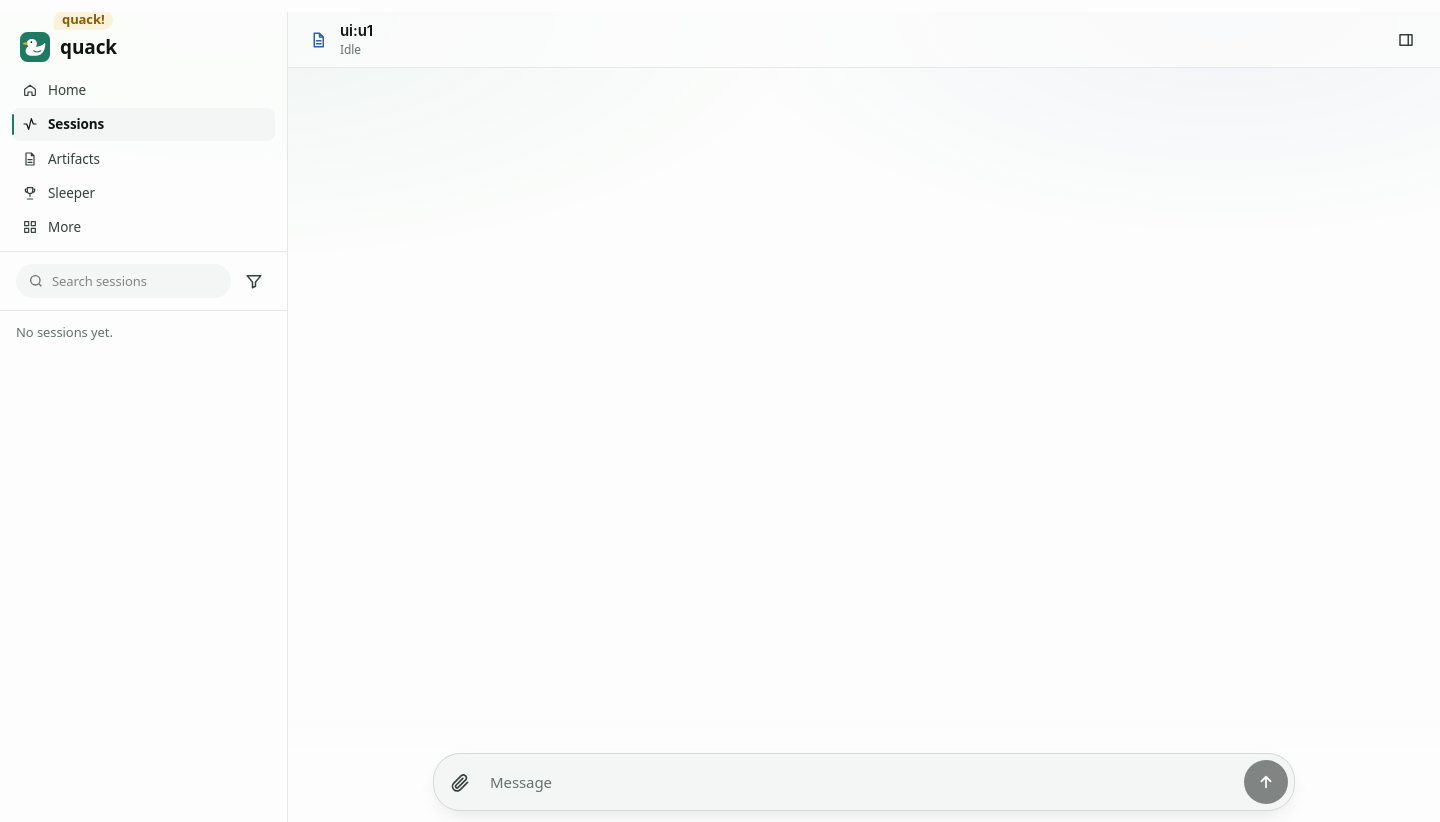
a send while a run works is a server-side follow-up shown as a chip; Send now steers it and the cross withdraws it
Type "first" into the text box labelled "Message" at (863, 782), box [486, 762, 1240, 802]
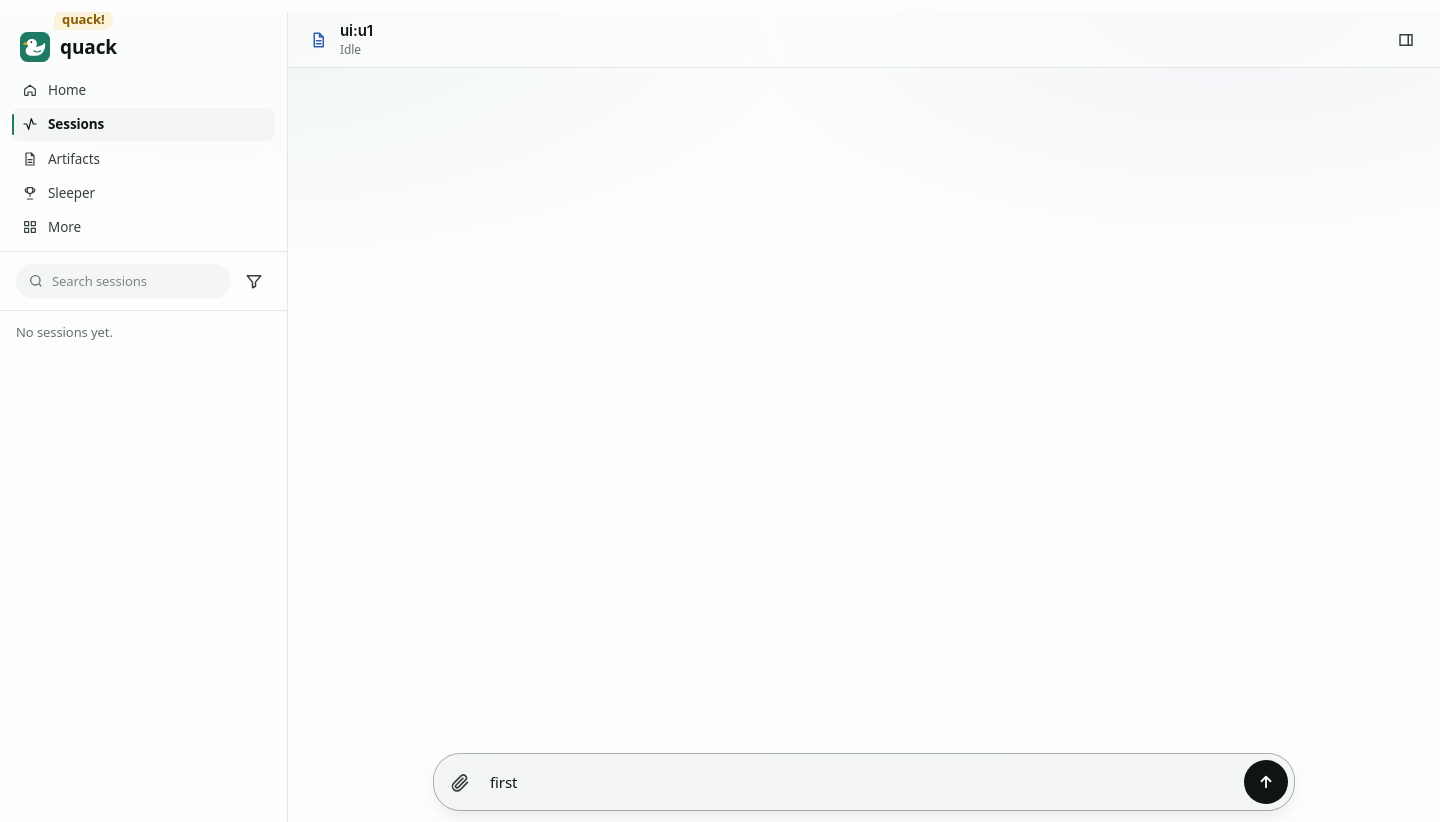
Click the button named "Send" at (1266, 782), box [1244, 760, 1288, 804]
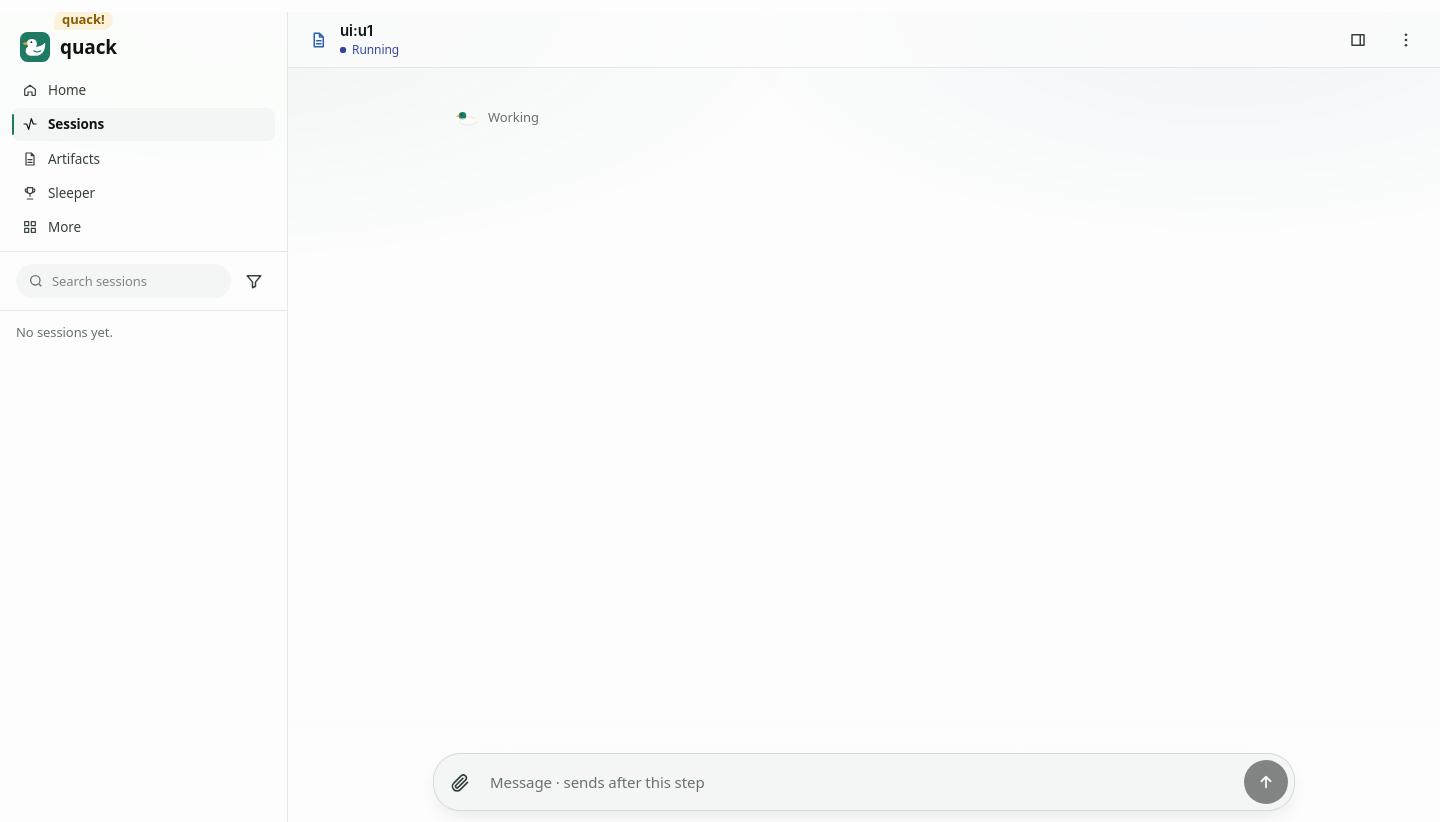
Expected: the text box labelled "Message" has attribute placeholder="Message · sends after this step"
Type "turn left" into the text box labelled "Message" at (863, 782), box [486, 762, 1240, 802]
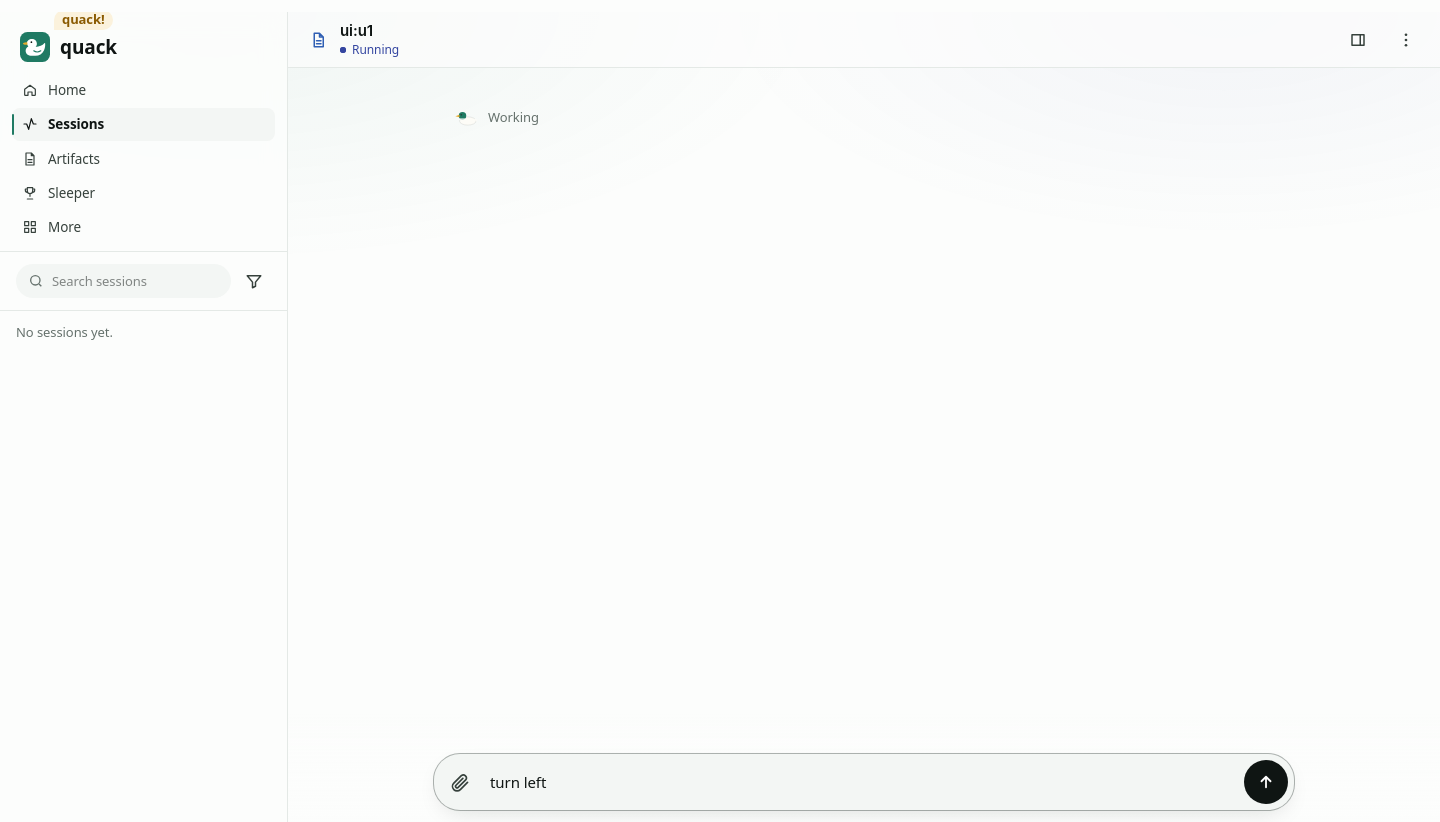
Click the button named "Send" at (1266, 782), box [1244, 760, 1288, 804]
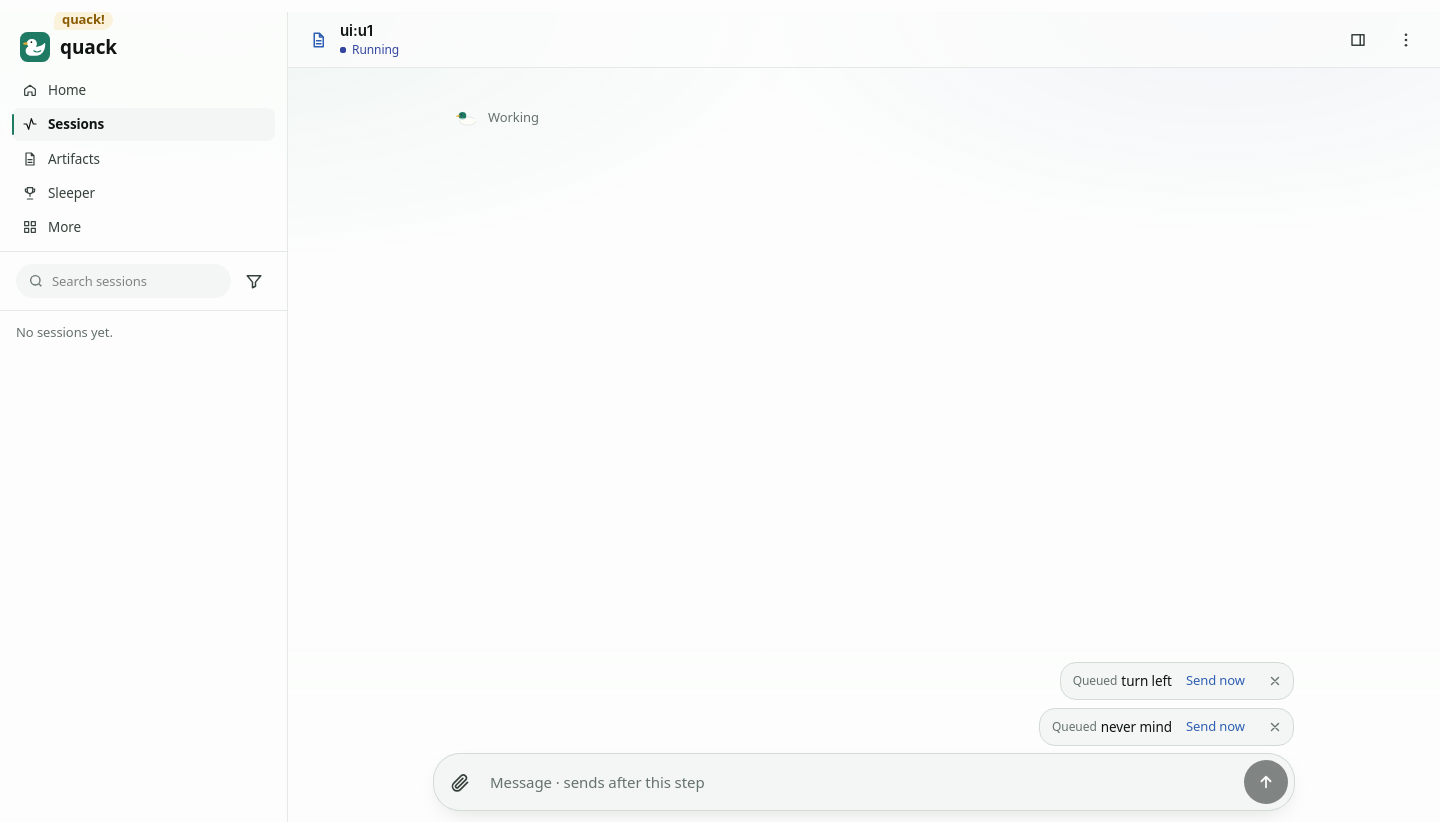
Expected: the text box labelled "Message" is empty, [486, 762, 1240, 802]
Expected: the text "turn left" is shown, [1121, 671, 1172, 691]
Click the button "Send now" next to "turn left" at (1215, 681), box [1176, 665, 1255, 697]
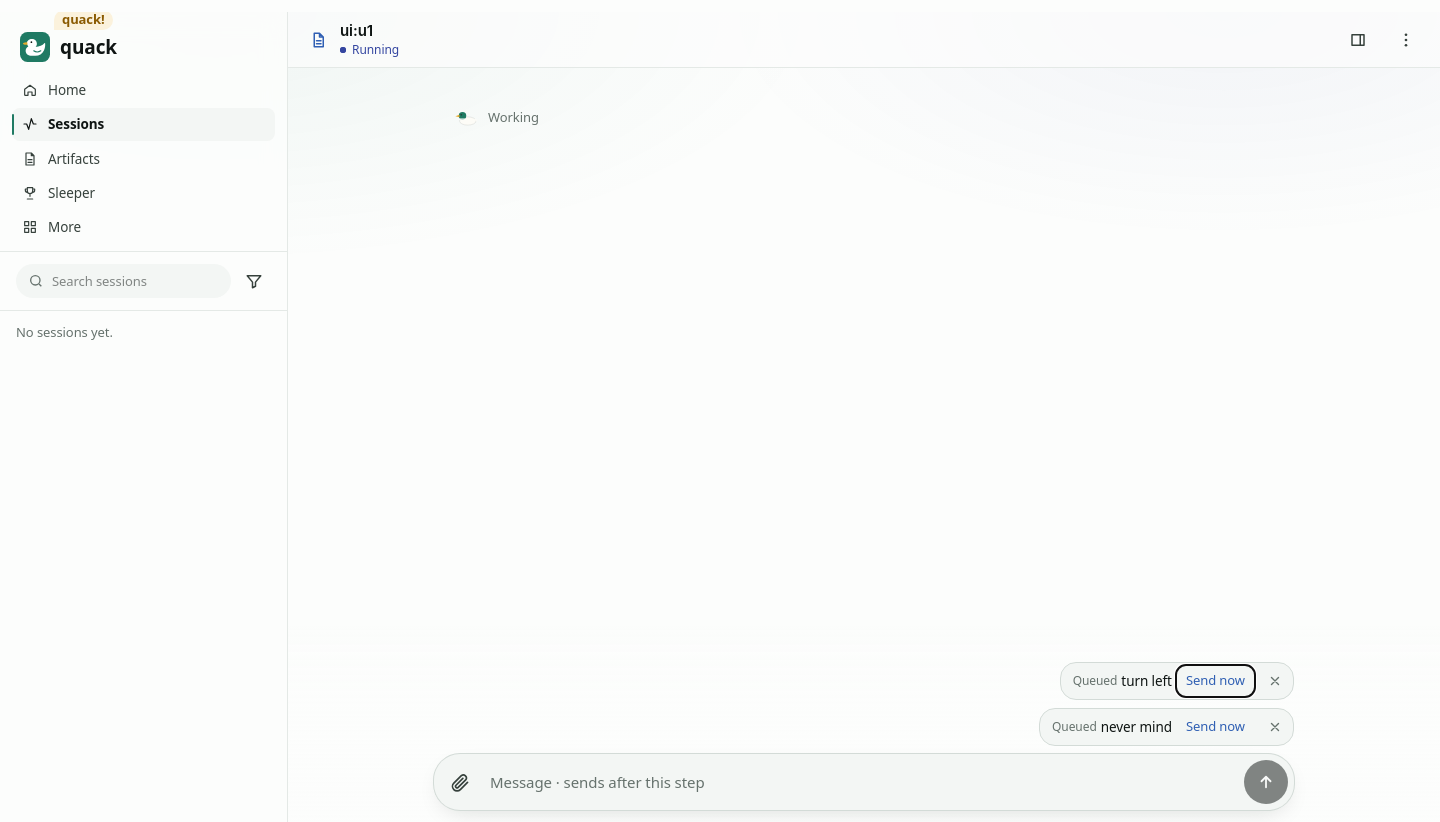
Click the button named "Remove queued message" in the row of "never mind" at (1275, 727), box [1259, 711, 1291, 743]
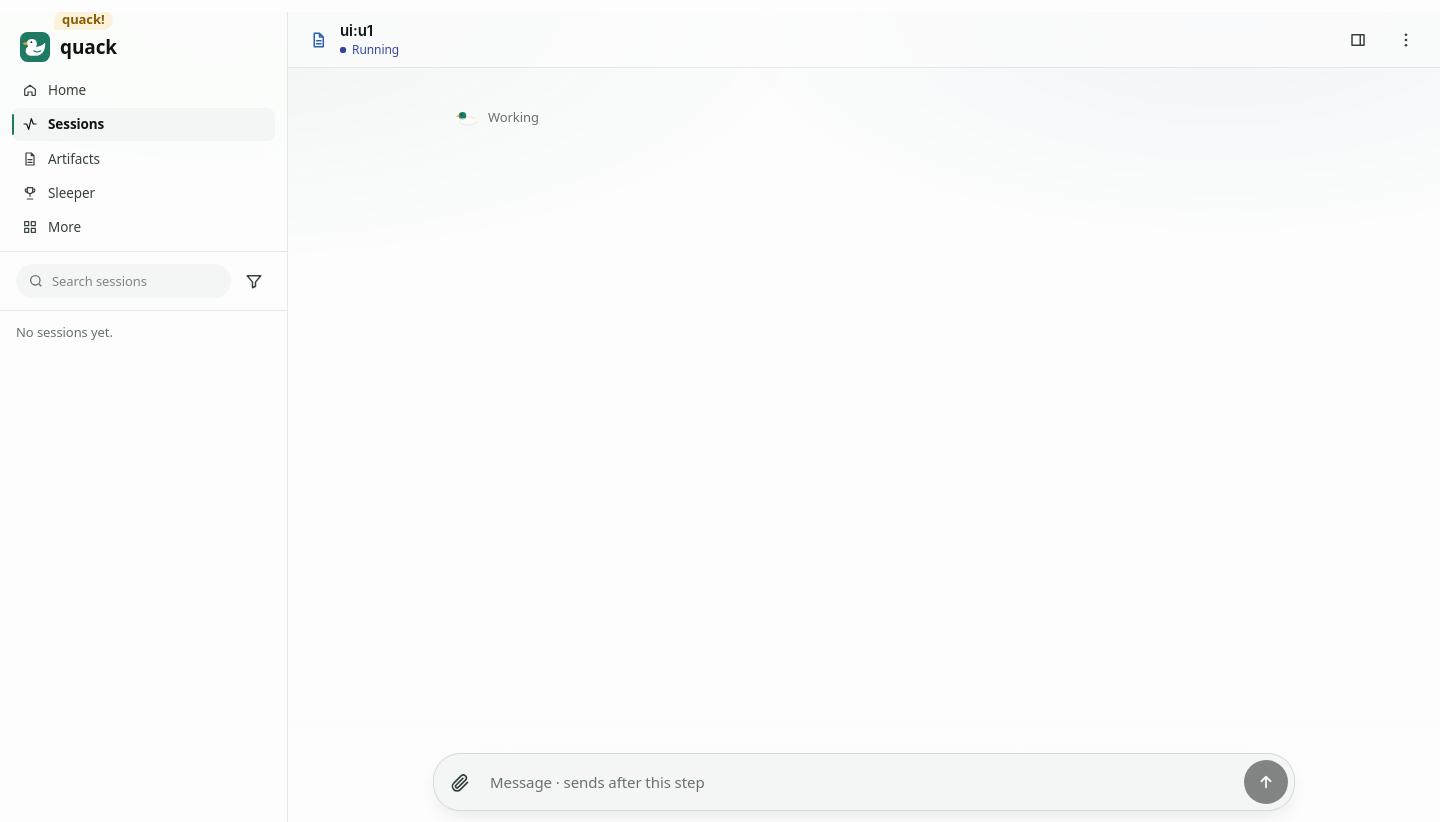
Expected: the text "Queued" is gone
